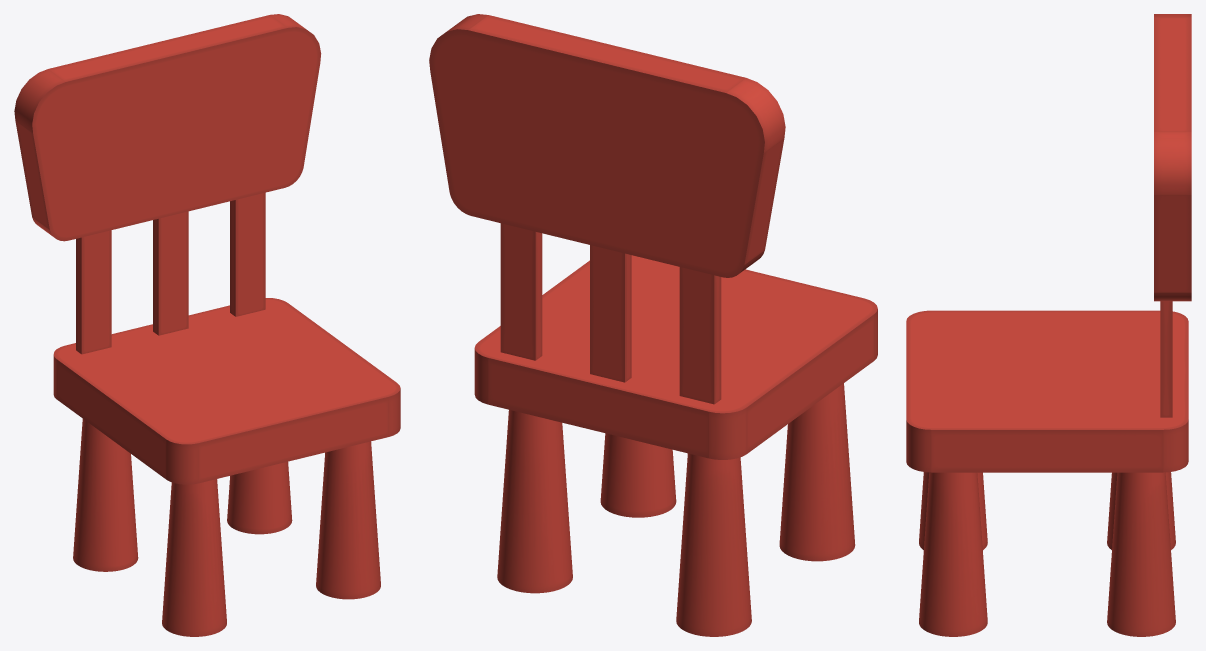
File: chair 04.glb
3 renders of one model, left to right at view 1: azimuth 30°, elevation 25°; view 2: azimuth 150°, elevation 25°; view 3: azimuth 270°, elevation 25°, orthographic. The views are drawn at different scales.
Visible parts, largest first — view 1: Object_2; view 2: Object_2; view 3: Object_2.
Part boxes in pixels (x1,y1,x2,y2): Object_2: (14,14,400,636); Object_2: (429,14,877,636); Object_2: (906,14,1191,636).
Bounding box in the file's own units: 0.7342 × 1.17 × 0.5932.
Materials: 1 (1 with a texture image).
